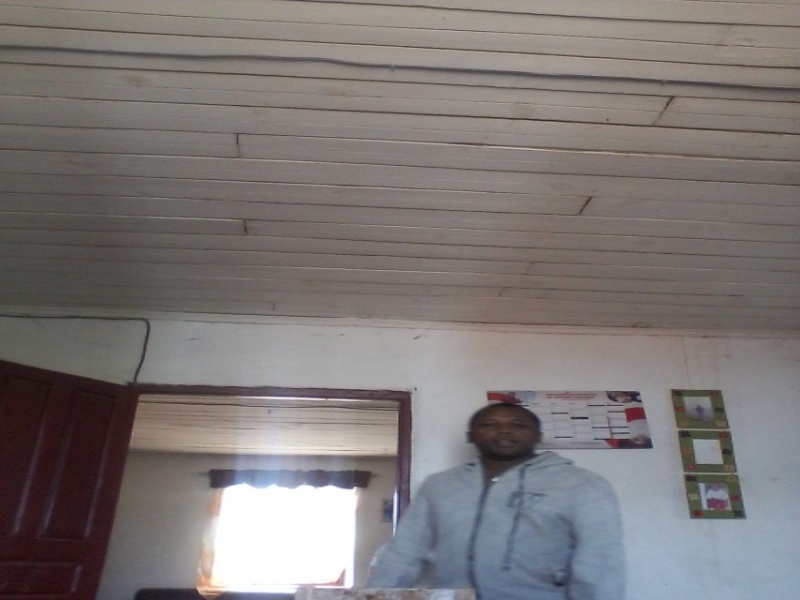TsisyArotava: (465, 400, 559, 474)
